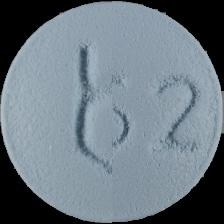0093-2140: (0, 0, 224, 224)
